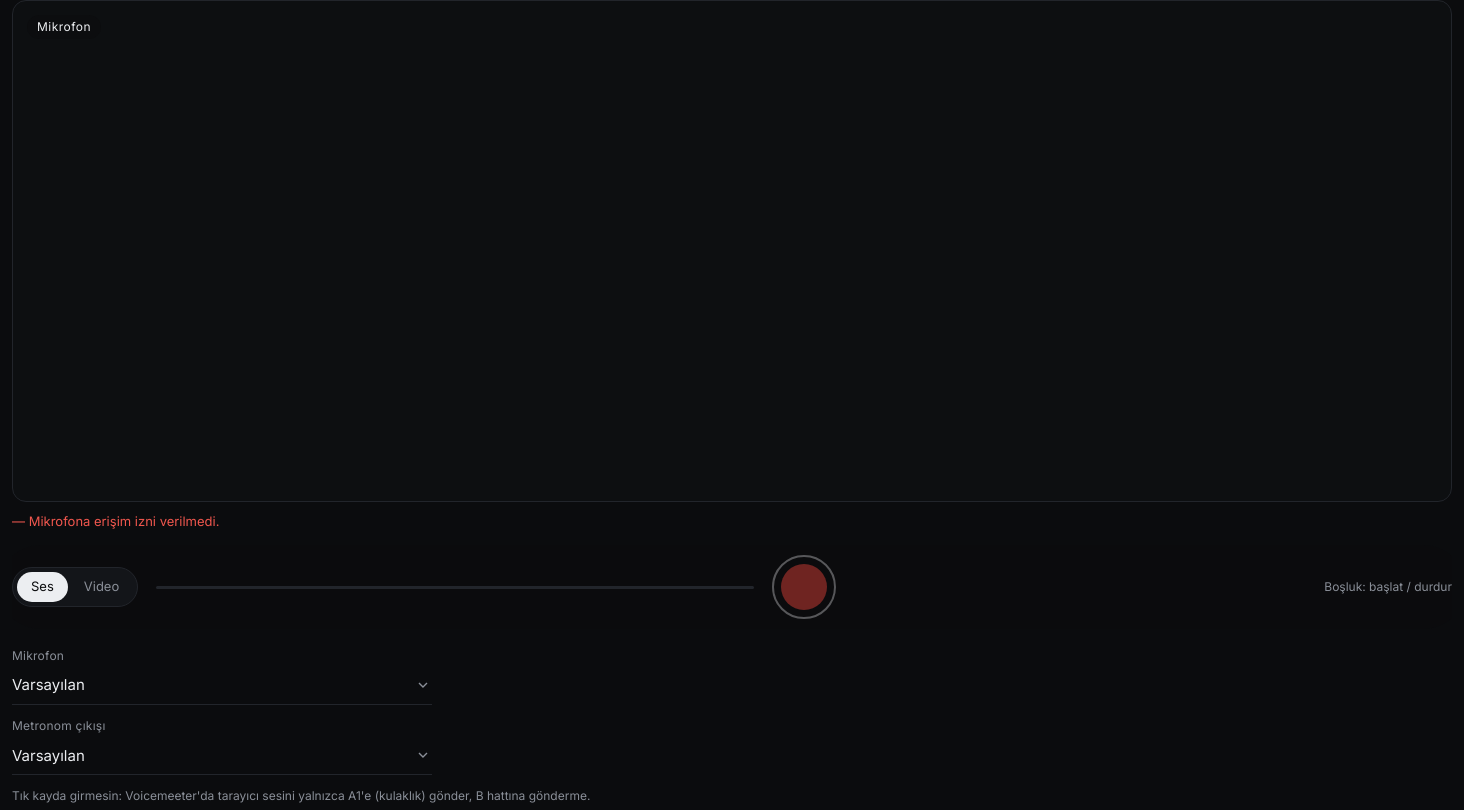
Recorder › clicking the already selected mode retries the device after a denied permission
Check: the text "Mikrofona erişim izni verilmedi." is shown, box [29,513,220,529]
Click the button "Ses" at (42, 587), box [17,572,68,602]
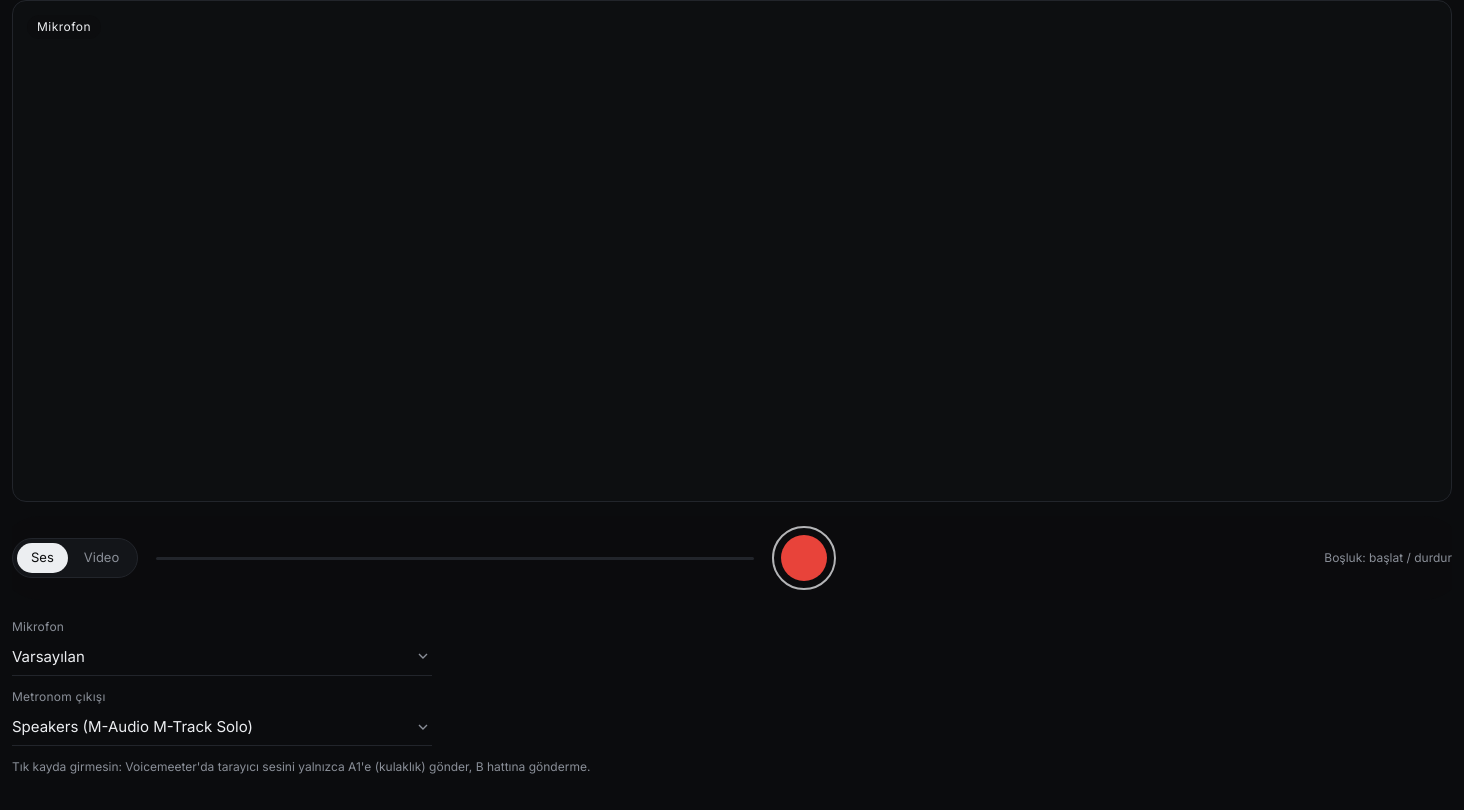
Check: the text "Mikrofona erişim izni verilmedi." is gone
